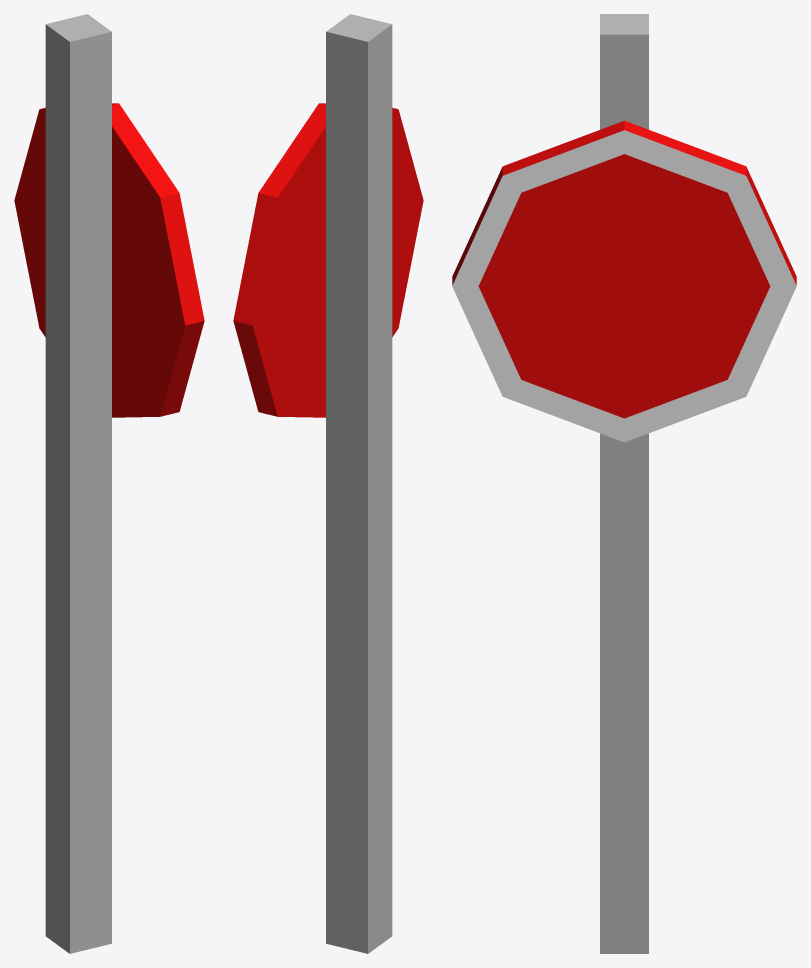
File: signStop.fbx
3 renders of one model, left to right at view 1: azimuth 30°, elevation 25°; view 2: azimuth 150°, elevation 25°; view 3: azimuth 270°, elevation 25°, orthographic.
Visible parts, largest first — view 1: StopSign; view 2: StopSign; view 3: StopSign.
Part boxes in pixels (box(x1,y1,x2,y2)): StopSign: box(14, 14, 204, 953); StopSign: box(233, 14, 423, 953); StopSign: box(452, 14, 796, 953).
Size of the model in its own units: 24.89 by 353 by 120.
